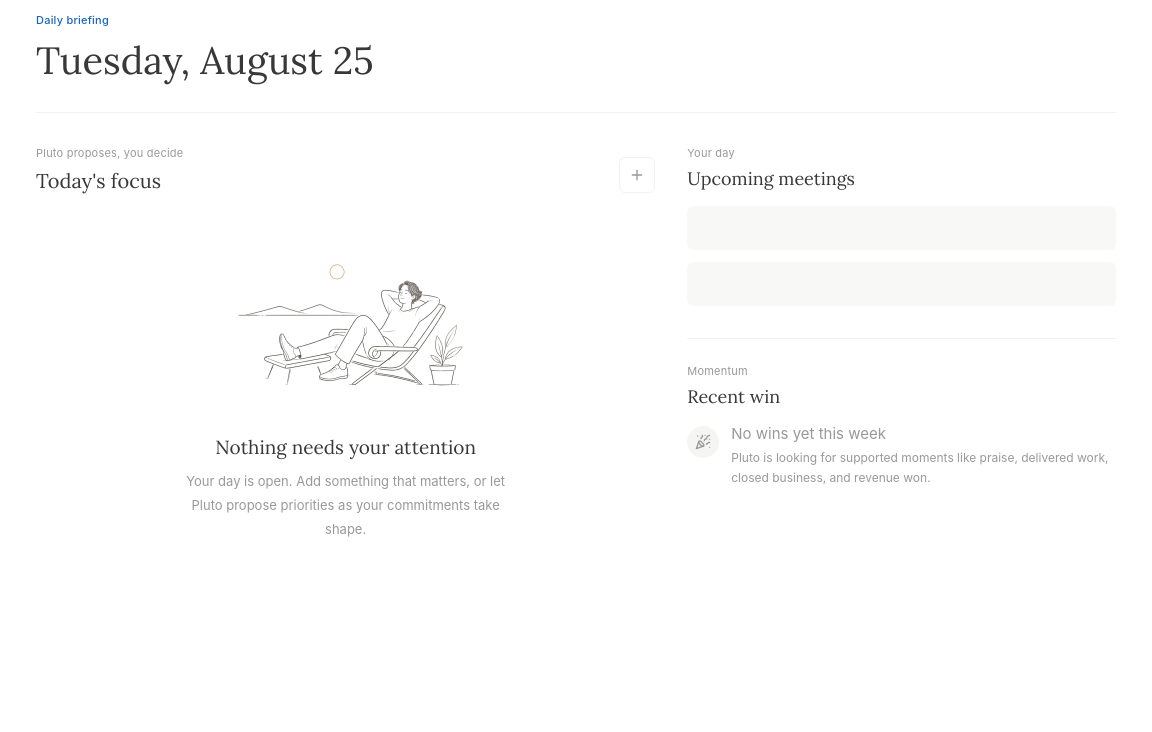
Test: Dashboard interactions › submits a user-authored commitment from the inline dashboard capture
The width and height of the screenshot is (1152, 732).
Later steps or results of the test are not shown.
Step 1. Click the button named "Add a commitment" → (637, 174), box left=619, top=156, right=655, bottom=192
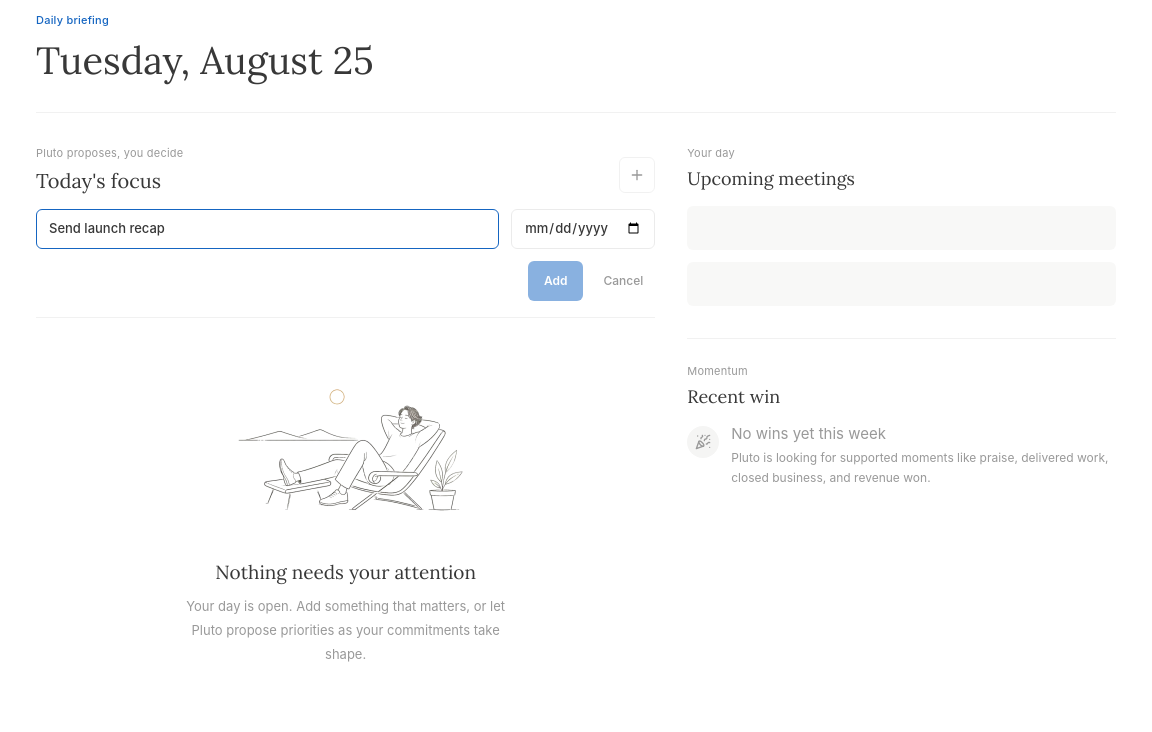
Result: the field named "Commitment" is shown at left=36, top=208, right=499, bottom=248
Result: the date field named "Optional due date" is shown at left=511, top=208, right=655, bottom=248
